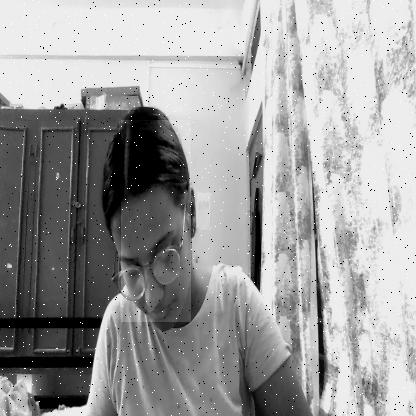Distracted: (121, 120, 191, 322)
